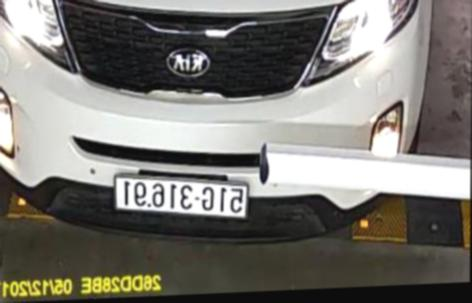License_Plate: (111, 167, 248, 225)
